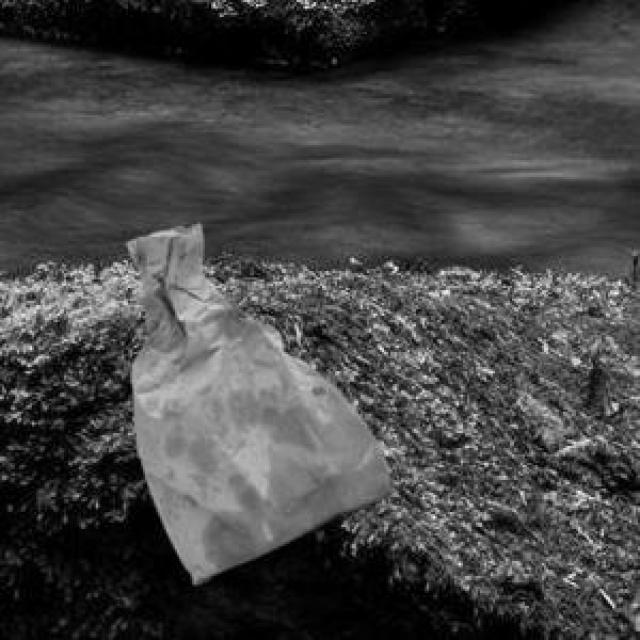paper: (124, 220, 393, 580)
